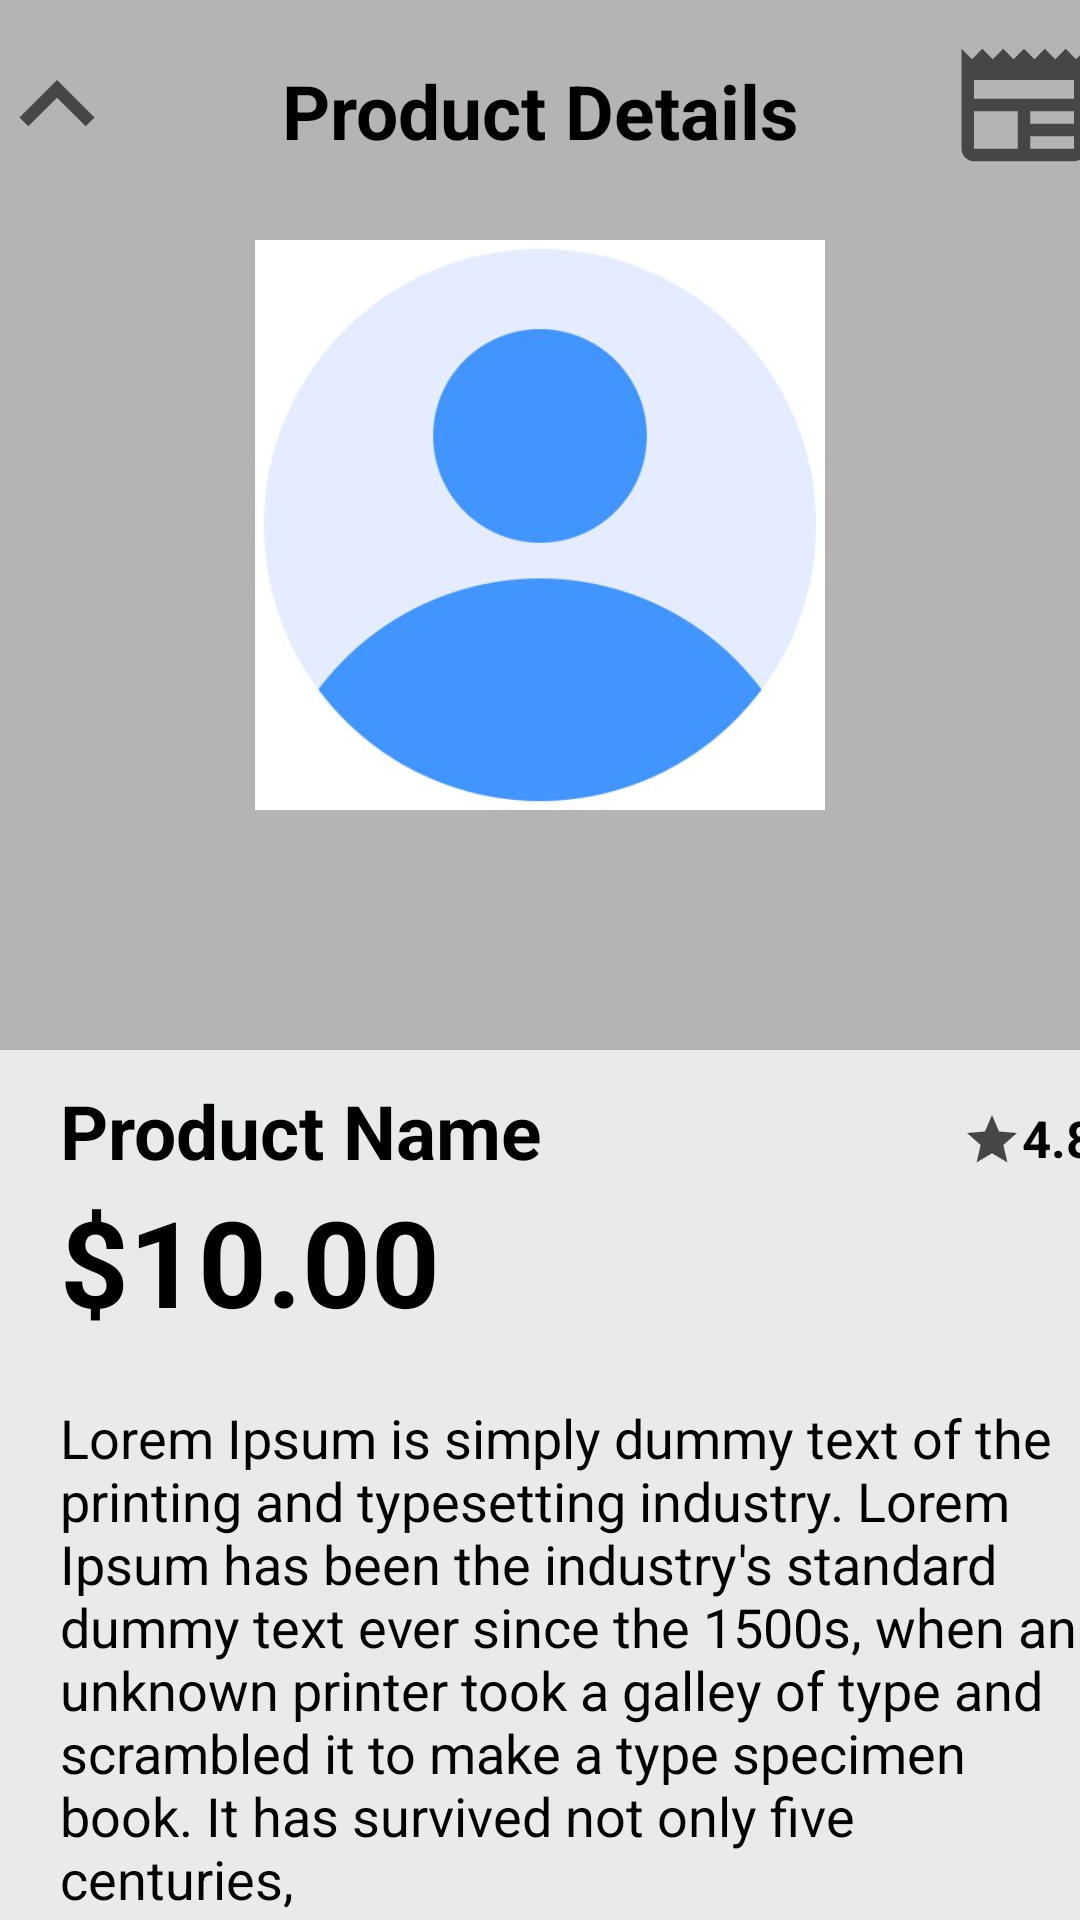

Icons on this 1080*1920 Android screen, each with the point to tap as point (x, y):
star: point (992, 1138)
